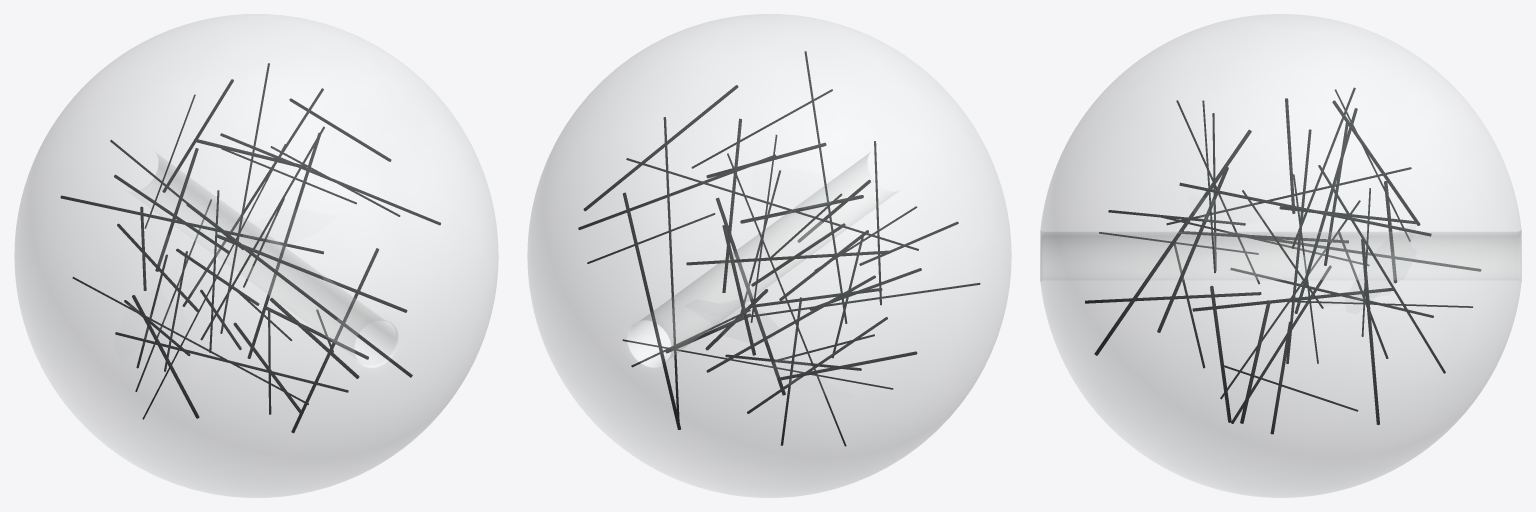
The model's file is black-rutilated-quartz-10mm.glb.
The picture shows the model from 3 angles, left to right: view 1: azimuth 30°, elevation 25°; view 2: azimuth 150°, elevation 25°; view 3: azimuth 270°, elevation 25°; orthographic projection.
Parts seen in each view (by area): view 1: black-rutilated-quartz.001, black-rutilated-quartz_WEB_needles_38; view 2: black-rutilated-quartz.001, black-rutilated-quartz_WEB_needles_38; view 3: black-rutilated-quartz.001, black-rutilated-quartz_WEB_needles_38.
Boxes of the visible parts, <box> form: black-rutilated-quartz.001: <box>14,14,498,497</box>; black-rutilated-quartz_WEB_needles_38: <box>60,63,440,433</box>; black-rutilated-quartz.001: <box>527,14,1011,497</box>; black-rutilated-quartz_WEB_needles_38: <box>578,51,980,446</box>; black-rutilated-quartz.001: <box>1040,14,1521,497</box>; black-rutilated-quartz_WEB_needles_38: <box>1085,87,1481,434</box>.
Size of the model in its own units: 0.01 by 0.01 by 0.00994.
Materials: 3 (1 with a texture image).
